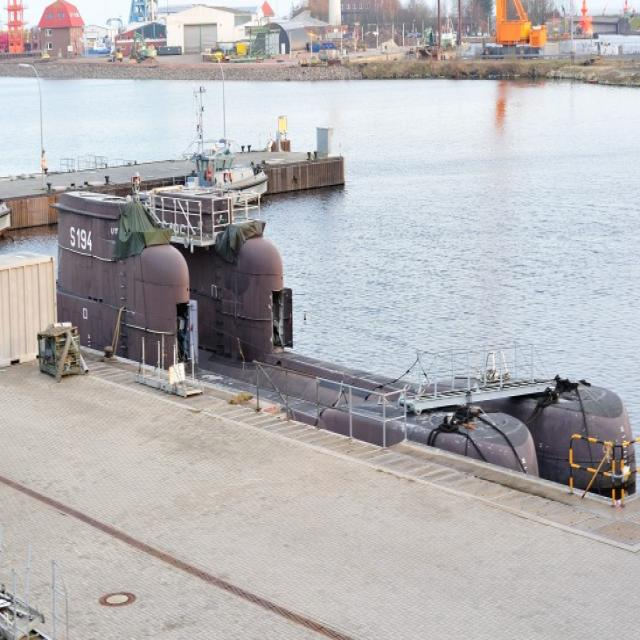submarine: (18, 191, 556, 481), (155, 190, 640, 489)
